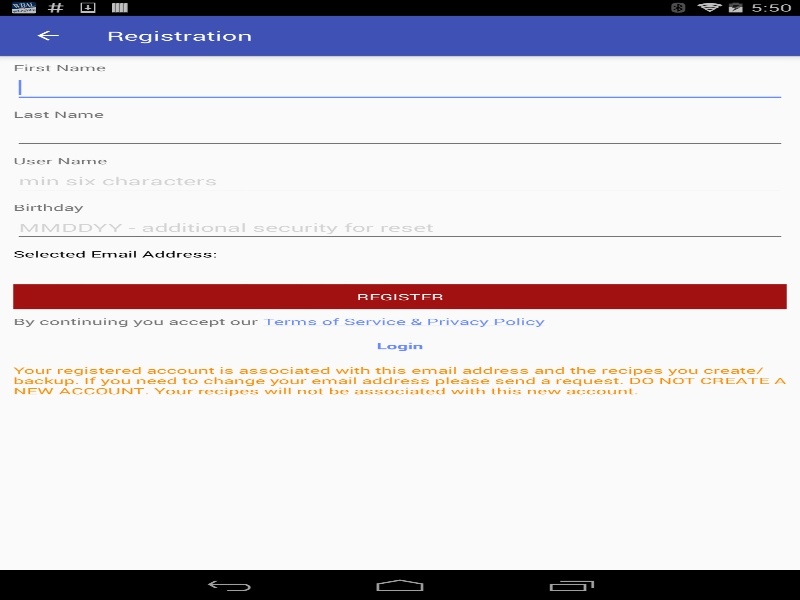Button: (13, 284, 786, 309), (10, 15, 85, 55)
Input: (13, 73, 786, 102), (13, 166, 786, 195), (13, 120, 786, 148), (13, 213, 786, 241)
